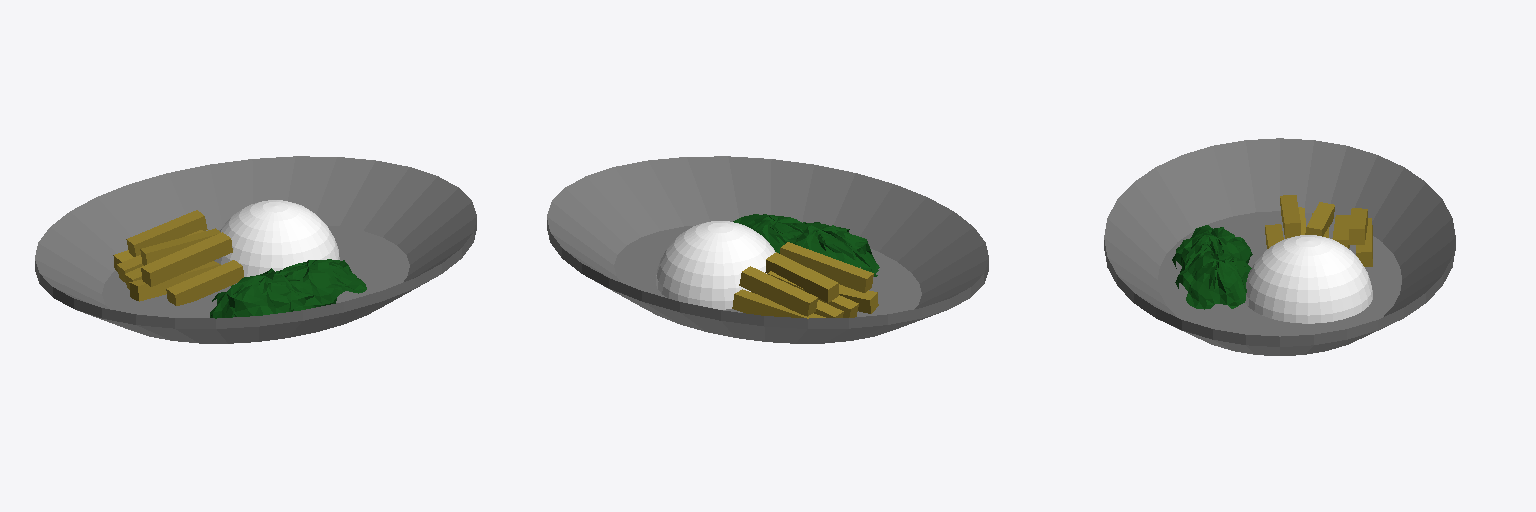
Rendered from rice1_meat3_veg2.obj.
The picture shows the model from 3 angles: view 1: azimuth 30°, elevation 25°; view 2: azimuth 150°, elevation 25°; view 3: azimuth 270°, elevation 25°; orthographic projection.
Parts seen in each view (by area): view 1: Cylinder, Sphere, Sphere.002, Sphere.001, Cube.007, Cube.004_Cube.005, Cube.005_Cube.000, Cube.002_Cube.003, Cube.006; view 2: Cylinder, Sphere, Sphere.002, Cube.007, Cube.005_Cube.000, Cube.006, Sphere.001, Cube.003_Cube.004, Cube.002_Cube.003, Cube.001_Cube.002; view 3: Cylinder, Sphere, Sphere.001, Sphere.002, Cube.007, Cube.006, Cube.005_Cube.000.
Part boxes in pixels (bbox=[...]): Cylinder: bbox=[35, 156, 476, 343]; Sphere: bbox=[214, 200, 339, 276]; Sphere.002: bbox=[210, 268, 313, 318]; Sphere.001: bbox=[278, 259, 366, 311]; Cube.007: bbox=[141, 232, 232, 286]; Cube.004_Cube.005: bbox=[166, 260, 243, 305]; Cube.005_Cube.000: bbox=[126, 210, 207, 256]; Cube.002_Cube.003: bbox=[129, 261, 220, 301]; Cube.006: bbox=[140, 228, 220, 265]; Cylinder: bbox=[547, 156, 988, 343]; Sphere: bbox=[656, 221, 775, 309]; Sphere.002: bbox=[783, 222, 879, 276]; Cube.007: bbox=[780, 242, 873, 292]; Cube.005_Cube.000: bbox=[739, 266, 817, 316]; Cube.006: bbox=[765, 252, 838, 302]; Sphere.001: bbox=[733, 214, 802, 253]; Cube.003_Cube.004: bbox=[732, 289, 825, 318]; Cube.002_Cube.003: bbox=[839, 284, 878, 313]; Cube.001_Cube.002: bbox=[767, 271, 858, 317]; Cylinder: bbox=[1104, 138, 1455, 355]; Sphere: bbox=[1245, 235, 1372, 323]; Sphere.001: bbox=[1175, 249, 1251, 309]; Sphere.002: bbox=[1172, 225, 1252, 269]; Cube.007: bbox=[1280, 195, 1300, 238]; Cube.006: bbox=[1305, 202, 1334, 236]; Cube.005_Cube.000: bbox=[1349, 208, 1367, 244].
Bounding box in the file's own units: 5.75 × 0.85 × 4.31.